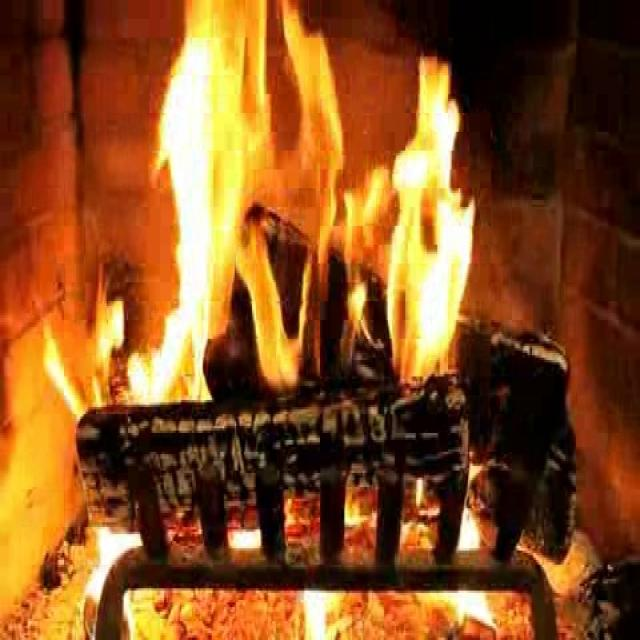fire: (147, 11, 475, 411)
